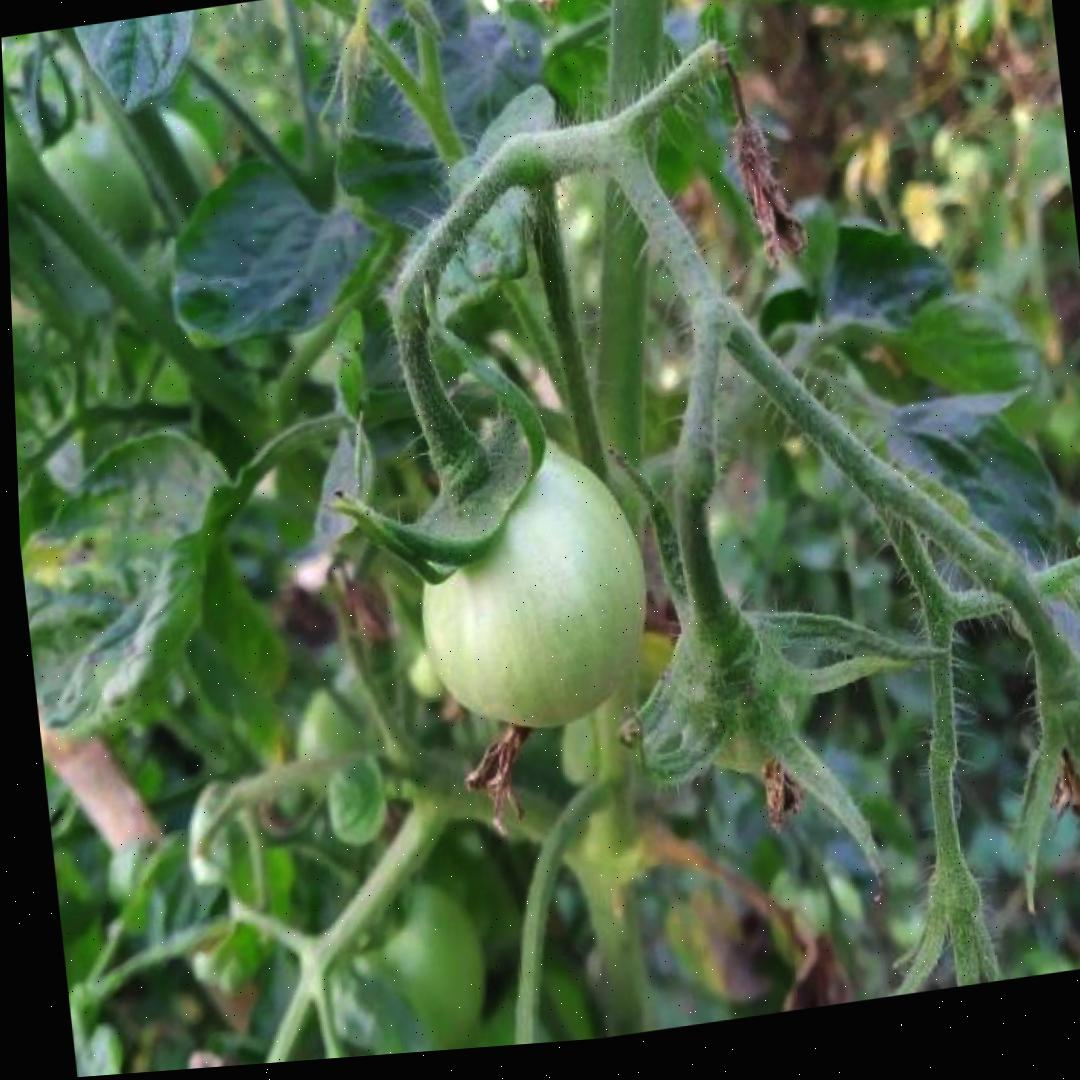mentah: (403, 420, 665, 745)
